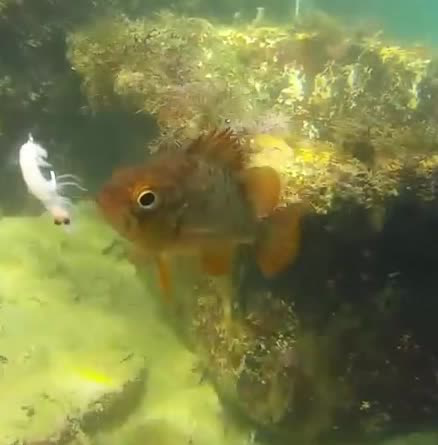mebaru: (85, 115, 307, 293)
